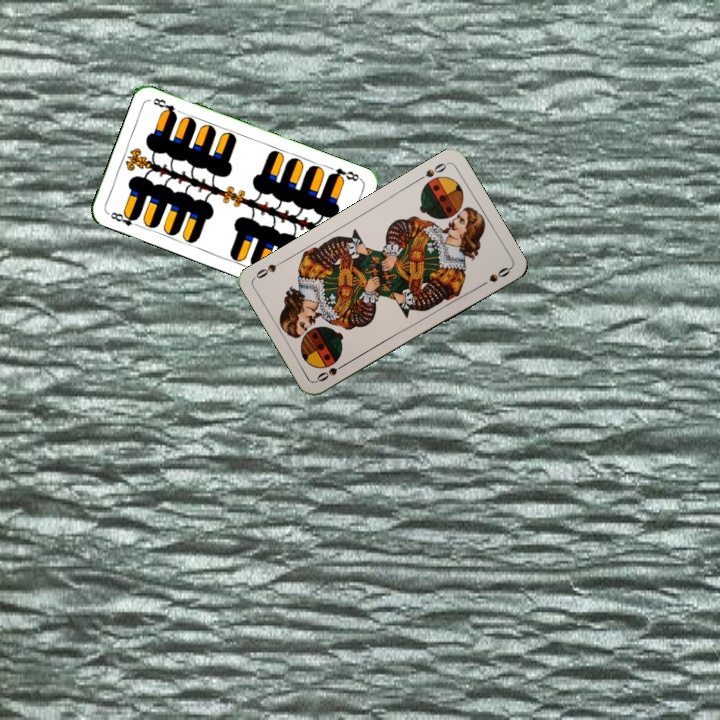E8: (104, 208, 143, 230), (325, 164, 362, 184)
SO: (312, 358, 350, 384), (413, 159, 450, 184)
